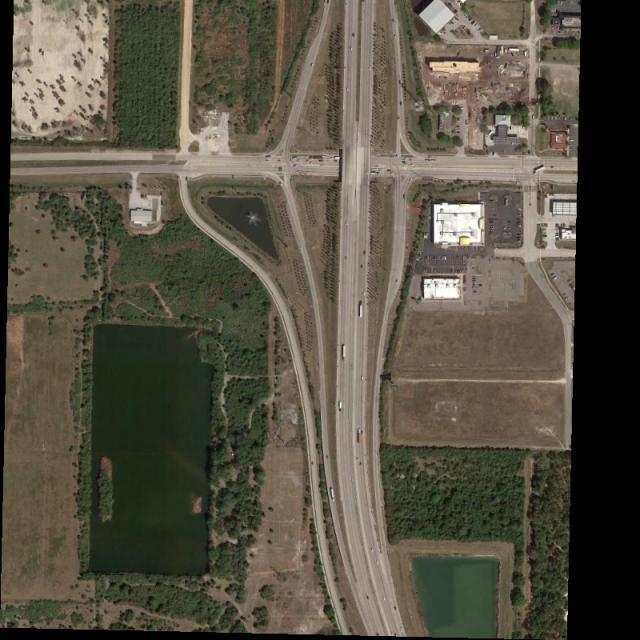vehicle: (358, 303, 363, 317), (342, 346, 346, 362), (358, 429, 362, 444), (331, 489, 335, 502), (309, 157, 324, 160), (339, 402, 342, 413), (334, 156, 341, 159)
